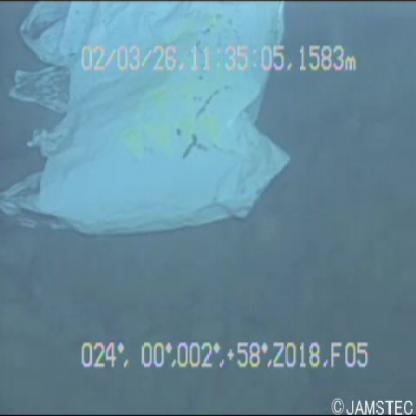Rác: (2, 1, 302, 239)
